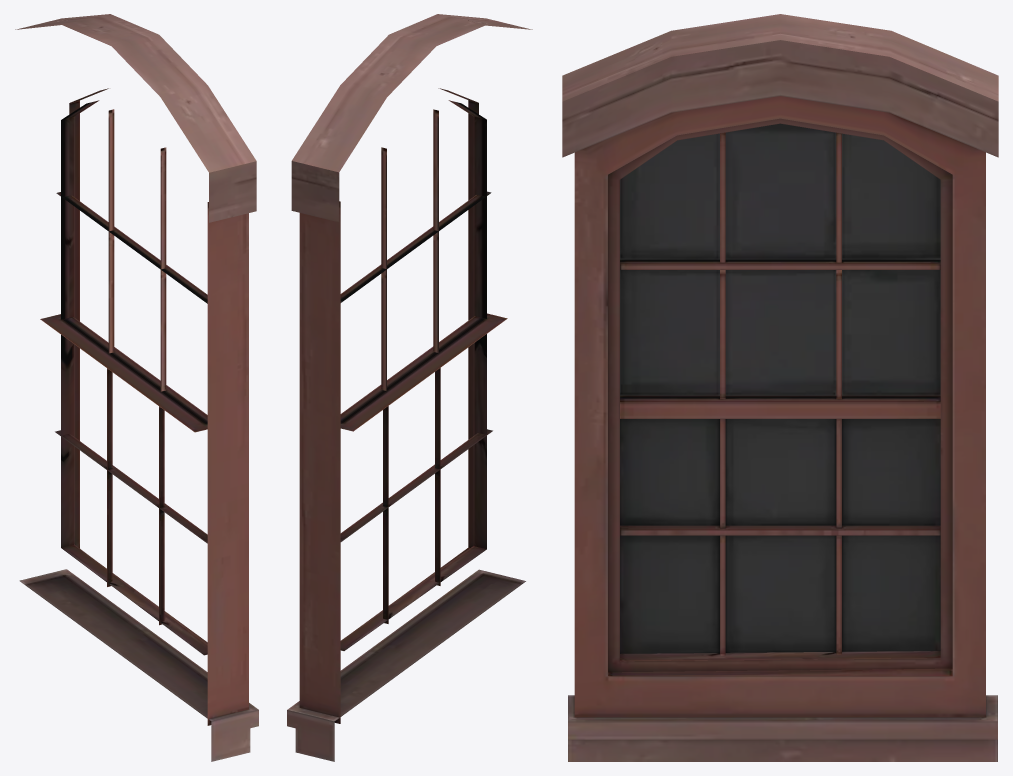
The picture shows the model from 3 angles, left to right: view 1: azimuth 30°, elevation 25°; view 2: azimuth 150°, elevation 25°; view 3: azimuth 270°, elevation 25°; orthographic projection. The views are drawn at different scales.
Parts seen in each view (by area): view 1: body0_model0_lod0_mesh0; view 2: body0_model0_lod0_mesh0; view 3: body0_model0_lod0_mesh0.
Part boxes in pixels (<box>): body0_model0_lod0_mesh0: <box>15,14,258,761</box>; body0_model0_lod0_mesh0: <box>287,14,532,761</box>; body0_model0_lod0_mesh0: <box>562,14,998,761</box>.
Size of the model in its own units: 10.96 by 129 by 70.55.
Materials: 1 (1 with a texture image).
